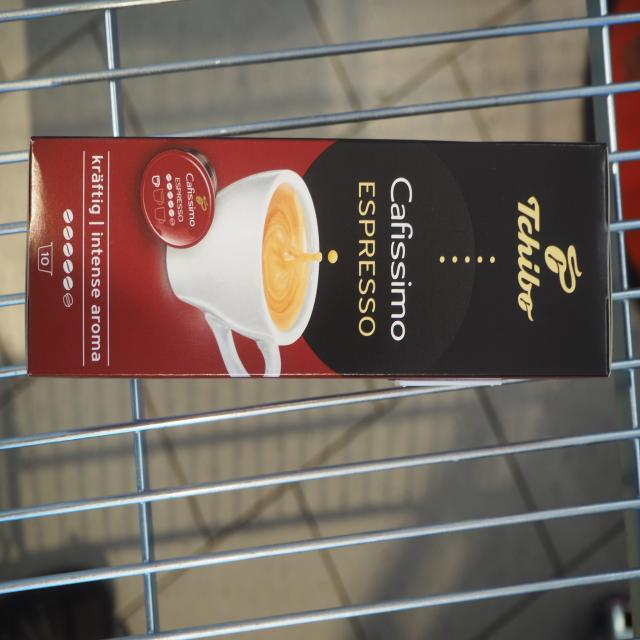Simo Es Kraft: (24, 133, 611, 386)
